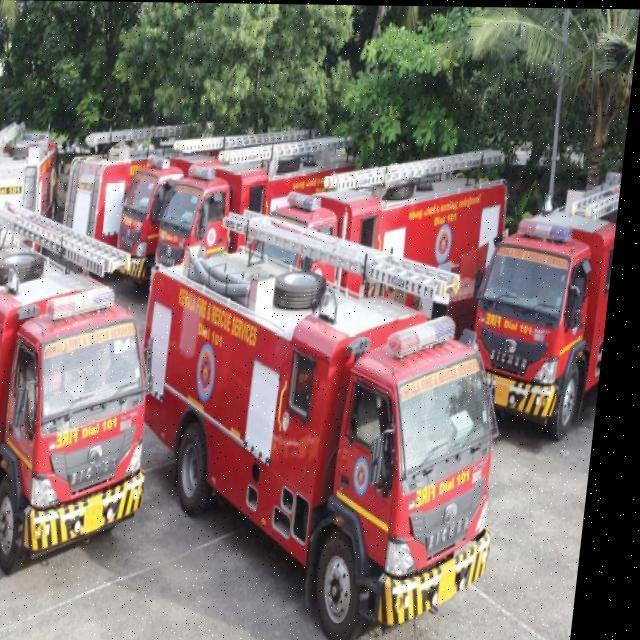Ambulance: (0, 118, 625, 640), (123, 215, 532, 640), (0, 240, 177, 578), (468, 174, 624, 443), (116, 153, 190, 288), (156, 162, 242, 276)
